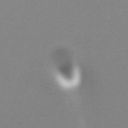normal: (62, 87, 85, 128)
